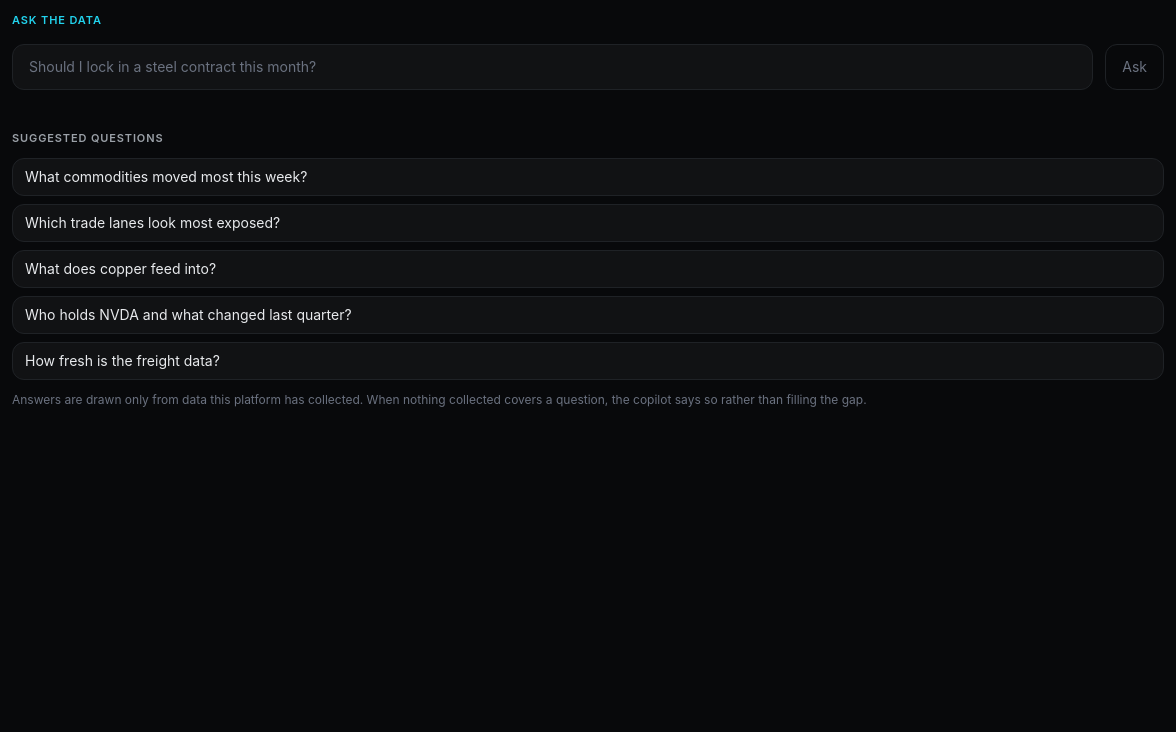
Test case: CopilotConversation › shows the question and then the answer
Type "what is copper doing" into the field named "Your question" at (553, 67), box top-left (12, 44), bottom-right (1093, 90)
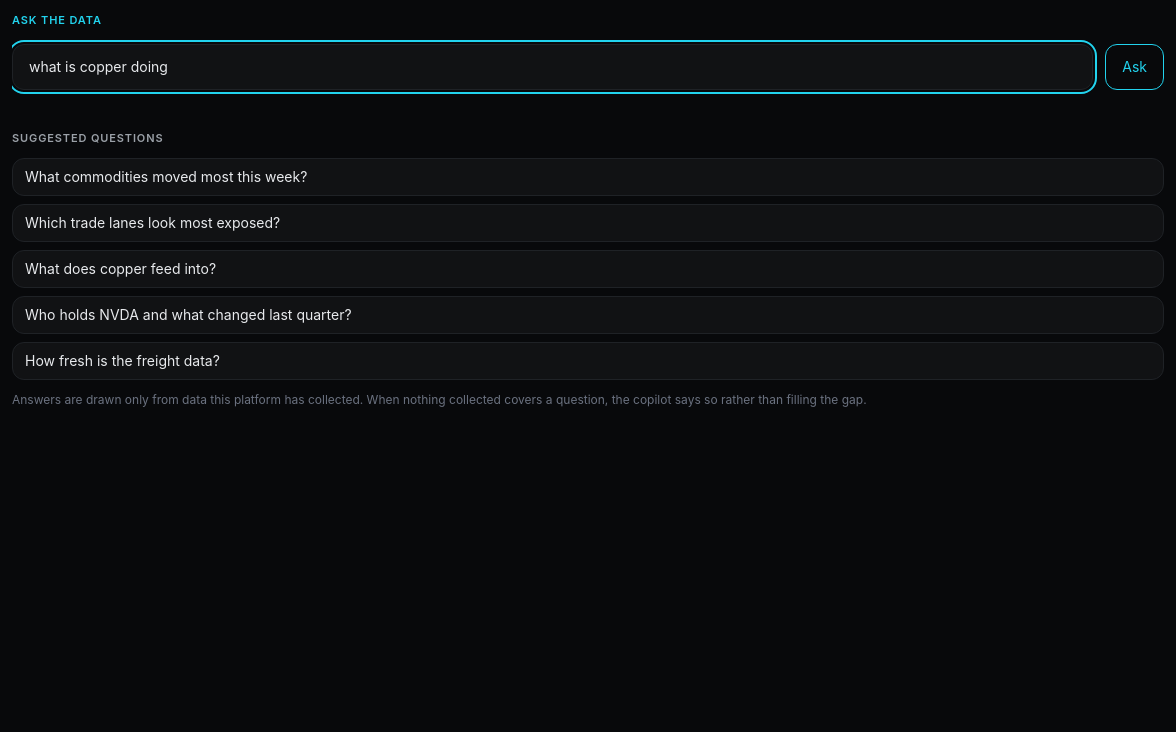
Click the button "Ask" at (1135, 67), box top-left (1105, 44), bottom-right (1164, 90)
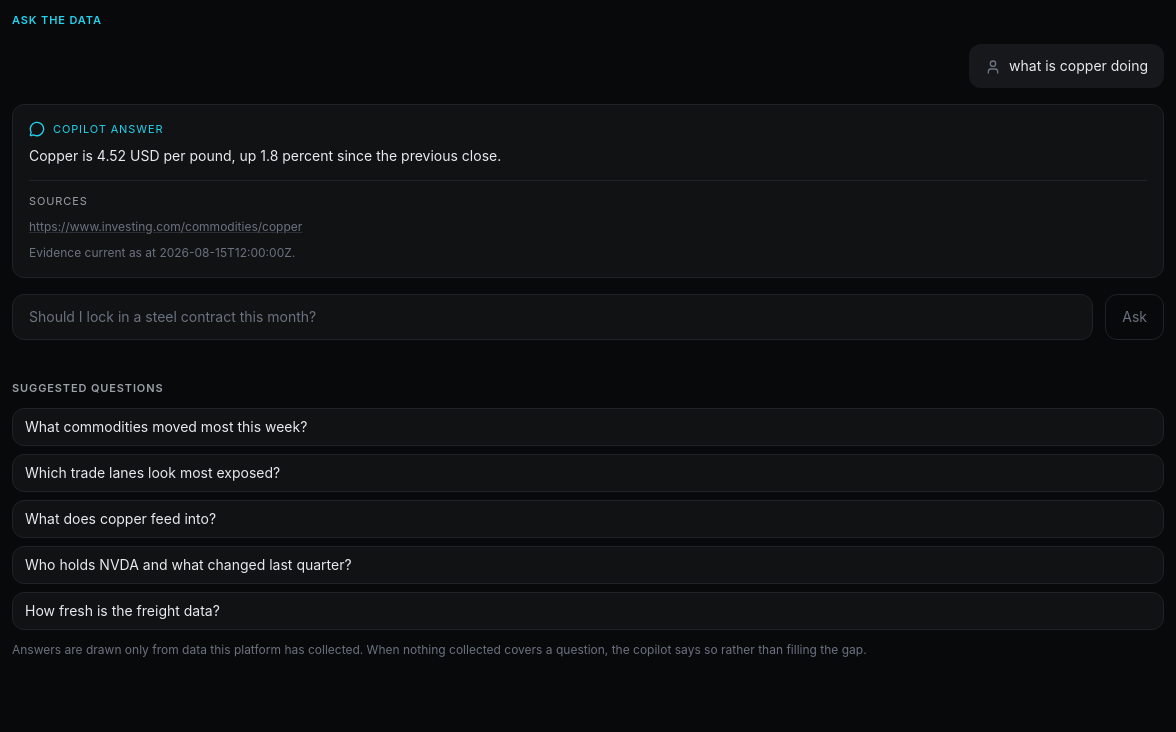
Now the text "what is copper doing" is shown, box top-left (969, 44), bottom-right (1164, 88)
Now the text "Copper is 4.52 USD per pound" is shown, box top-left (29, 147), bottom-right (501, 164)
